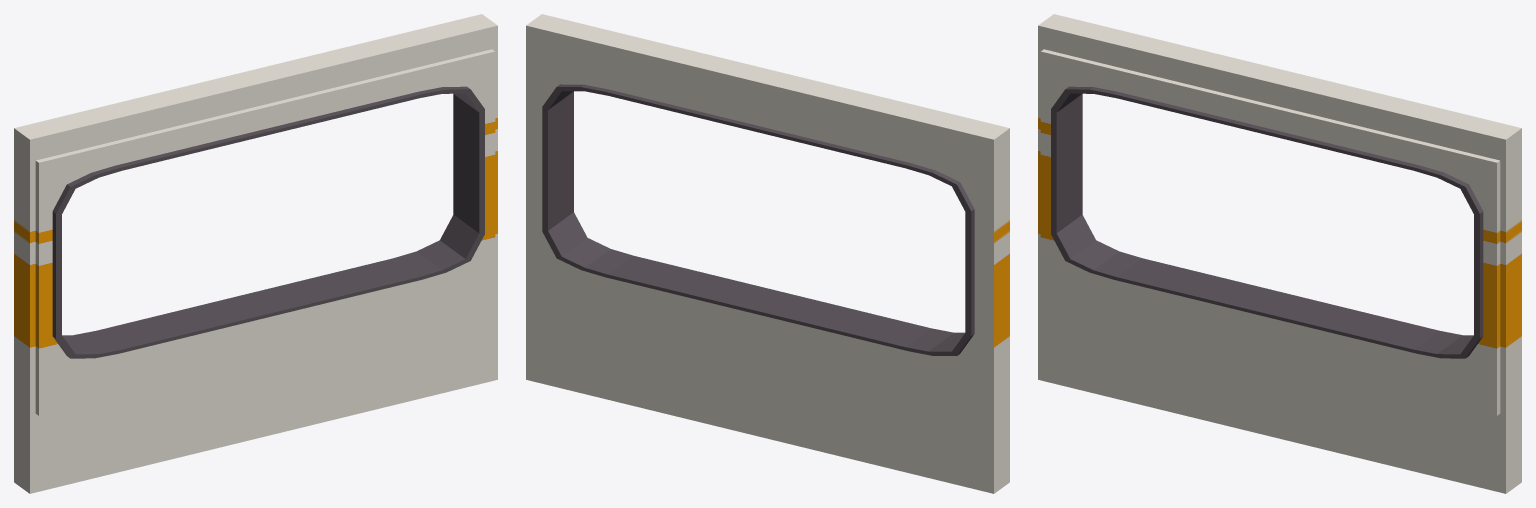
The model's file is wallwindowwide.fbx.
3 views of the same model, side by side, from view 1: azimuth 30°, elevation 25°; view 2: azimuth 150°, elevation 25°; view 3: azimuth 330°, elevation 25° (orthographic).
Parts seen in each view (by area): view 1: WallWindowWide; view 2: WallWindowWide; view 3: WallWindowWide.
Boxes of the visible parts, box(x1,y1,x2,y2) form: WallWindowWide: box(14, 14, 497, 493); WallWindowWide: box(526, 14, 1009, 493); WallWindowWide: box(1038, 14, 1521, 493).
Bounding box in the file's own units: 642 × 465 × 61.42.
